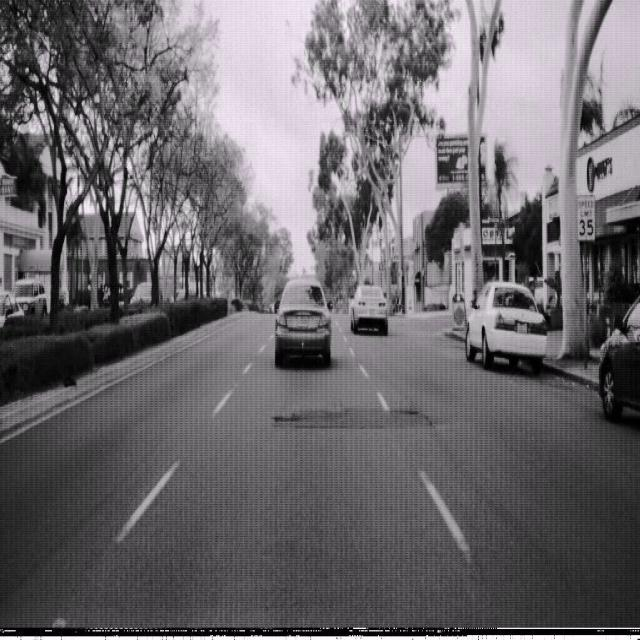speedLimit35: (576, 192, 596, 242)
